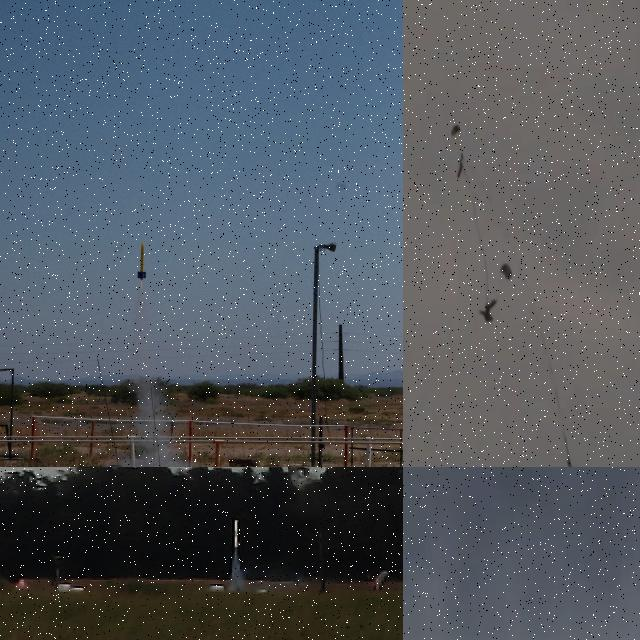Rocket: (138, 242, 146, 280), (232, 519, 240, 548), (568, 458, 577, 467)
